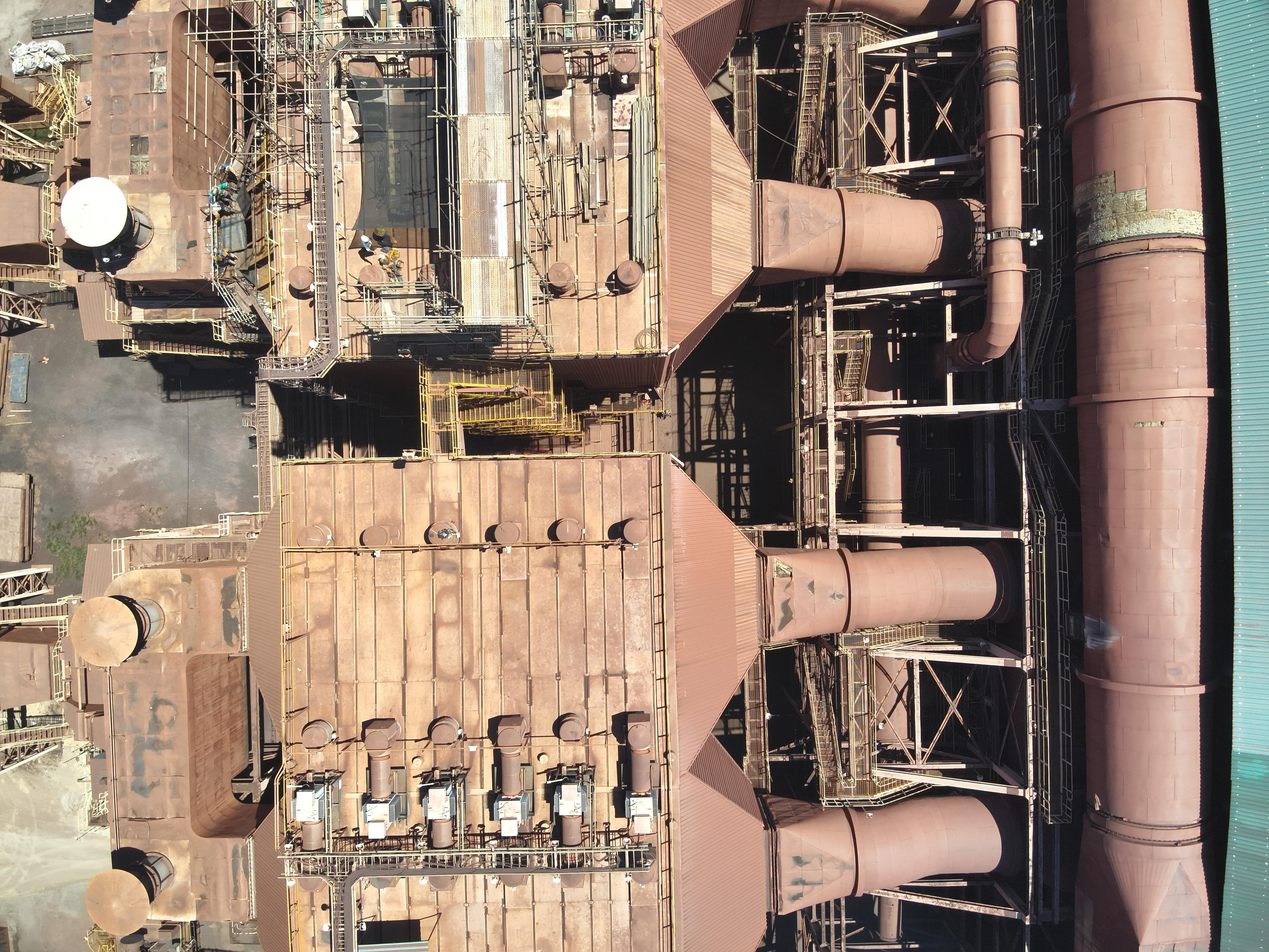Failures: (1065, 177, 1211, 249), (110, 808, 192, 850), (127, 129, 155, 183), (143, 48, 170, 98), (770, 553, 795, 586), (1133, 419, 1168, 434)
